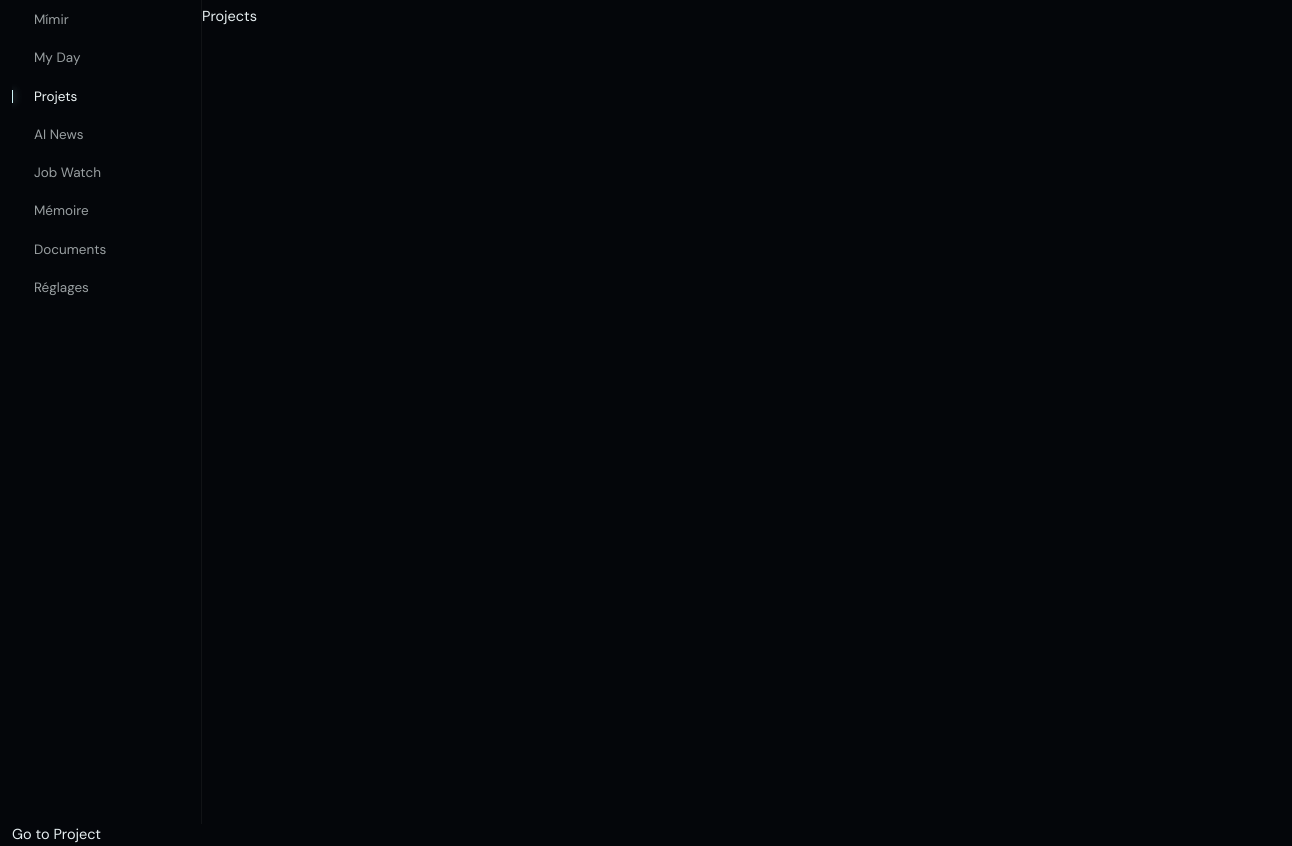
Test: Routing › navigation › navigates to a route with a dynamic parameter
(page scrolled)
Expected: the heading "Projects" is shown, left=202, top=7, right=257, bottom=25
Click the link "Go to Project" at (56, 834), box left=12, top=825, right=101, bottom=843
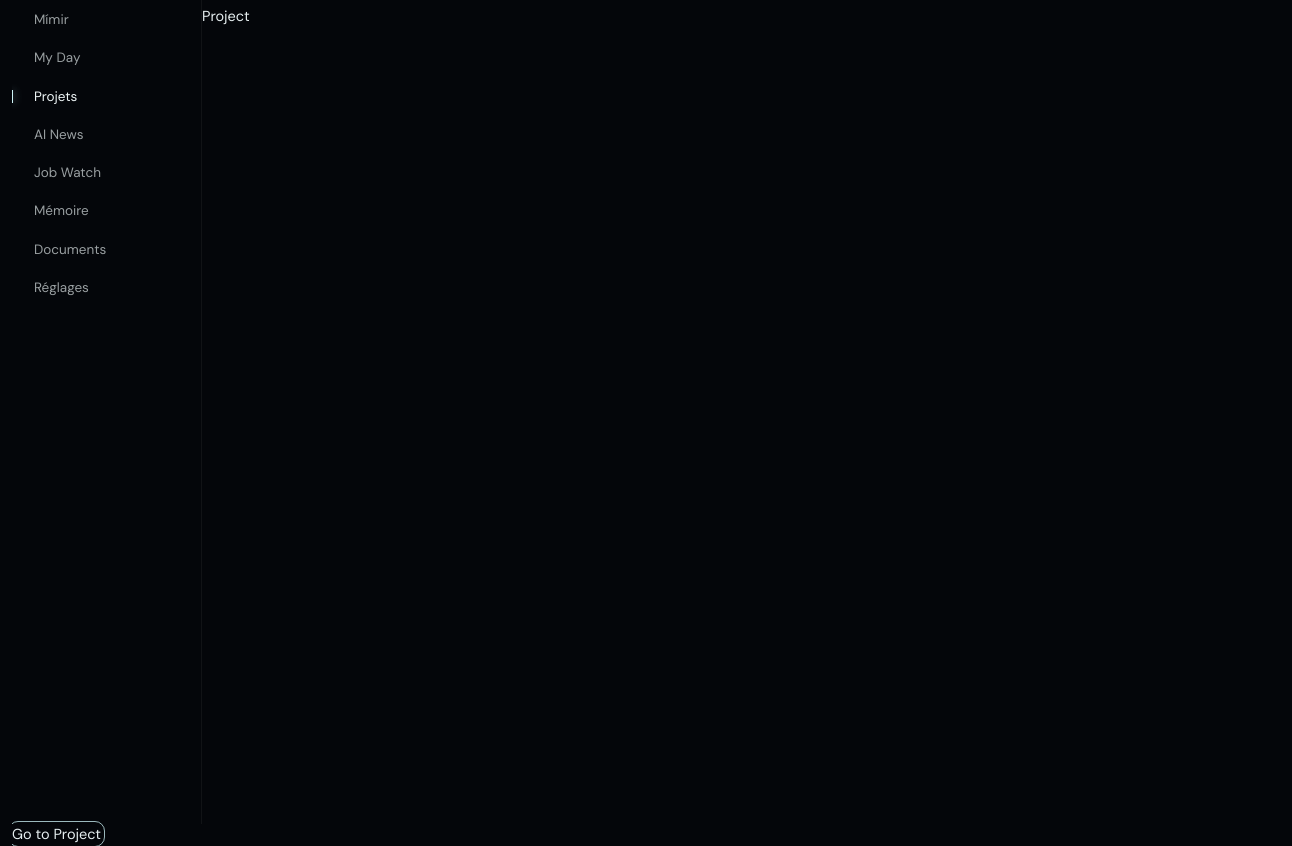
Expected: the heading "Project" is shown, left=202, top=7, right=250, bottom=25
Expected: the heading "Projects" is gone
